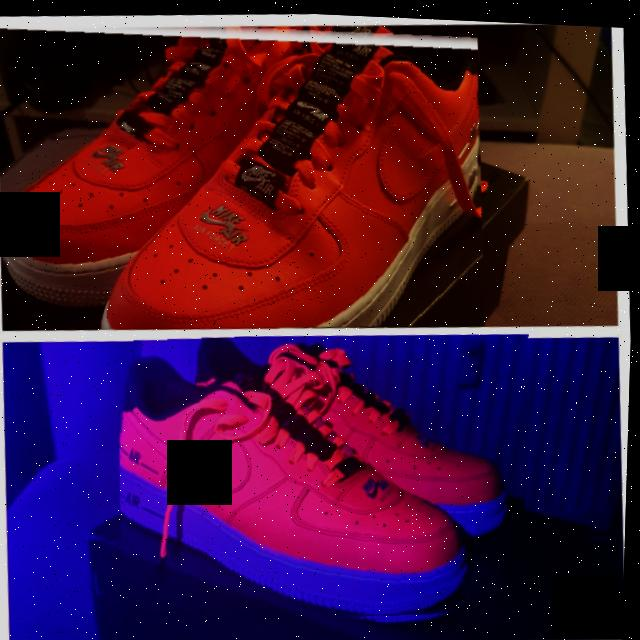shoe: (0, 0, 493, 346), (112, 315, 546, 639)
